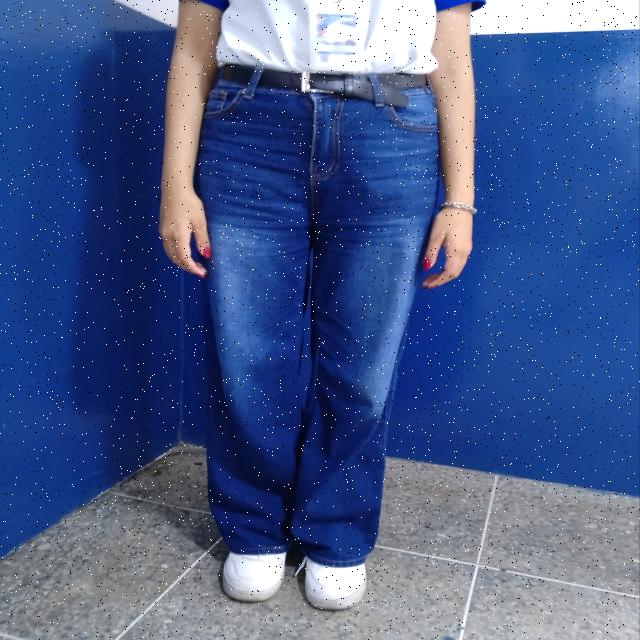pantalon_oscuro: (193, 74, 442, 567)
